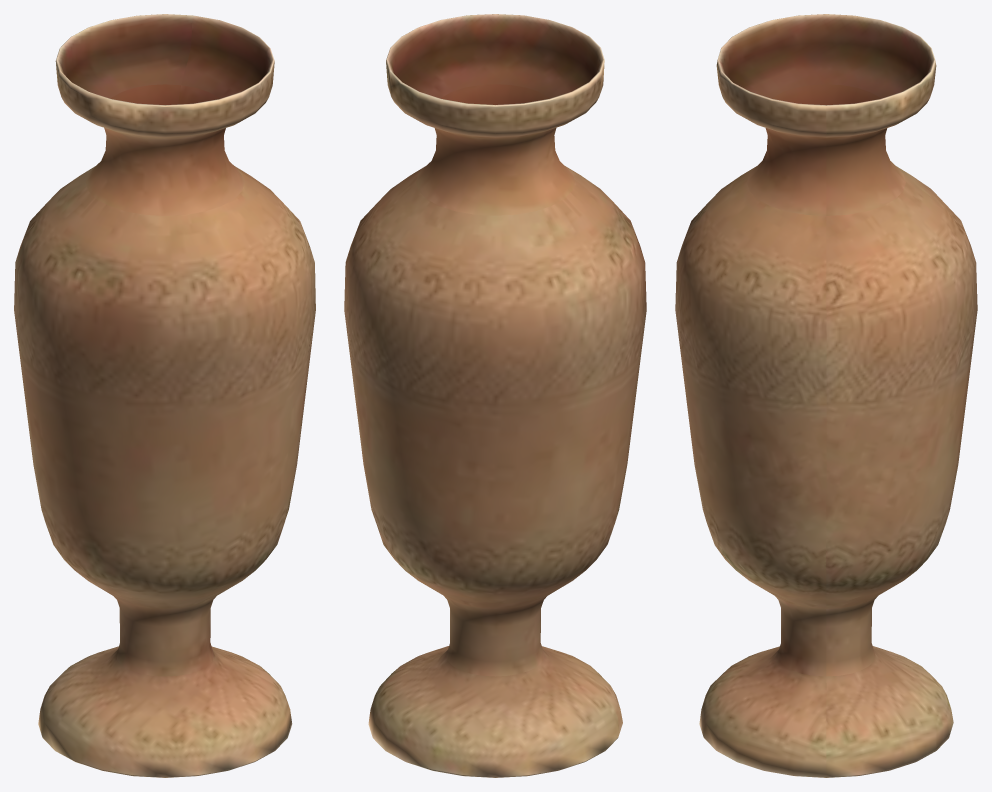
File: brass_vase_03.glb
3 views of the same model, side by side, from view 1: azimuth 30°, elevation 25°; view 2: azimuth 150°, elevation 25°; view 3: azimuth 270°, elevation 25° (orthographic).
Parts seen in each view (by area): view 1: brass_vase_03; view 2: brass_vase_03; view 3: brass_vase_03.
Part boxes in pixels (x1,y1,x2,y2): brass_vase_03: (14,14,315,777); brass_vase_03: (344,14,646,777); brass_vase_03: (675,14,977,777).
Size of the model in its own units: 0.0825 by 0.2004 by 0.0825.
1 material, 1 textured.
